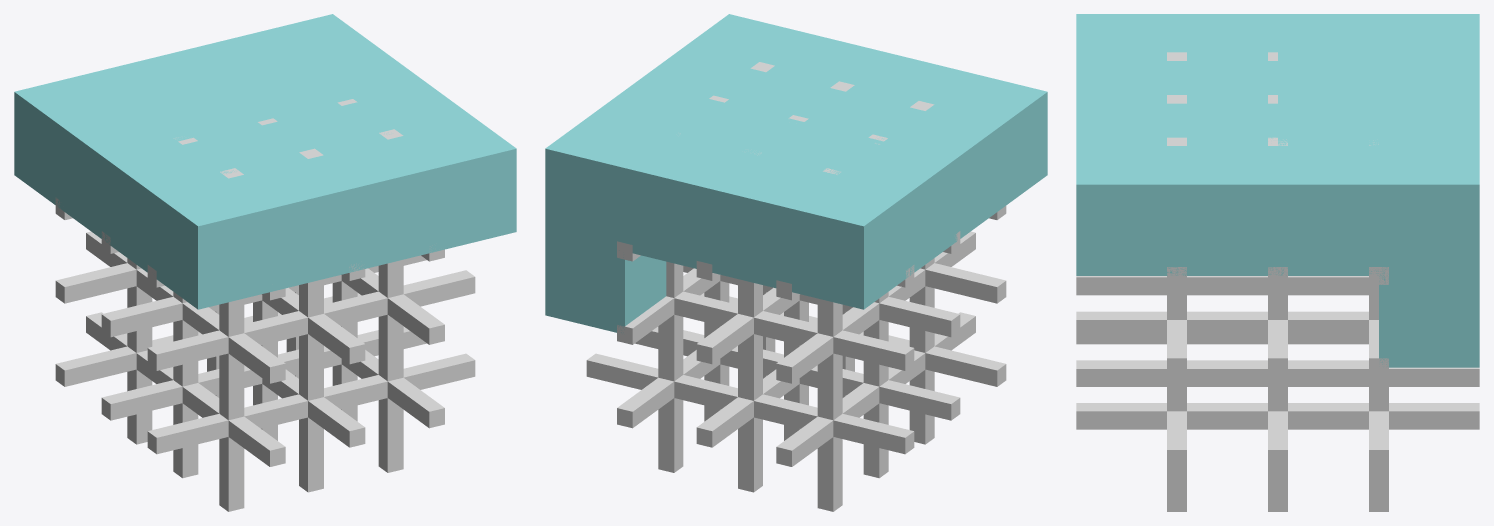
Rendered from newquad.fbx.
3 renders of one model, left to right at view 1: azimuth 30°, elevation 25°; view 2: azimuth 150°, elevation 25°; view 3: azimuth 270°, elevation 25°, orthographic. The views are drawn at different scales.
Visible parts, largest first — view 1: Cube, Cube.004, Cube.013, Cube.008, Cube.009, Cube.001, Cube.003, Cube.005, Cube.012, Cube.006, Cube.011, Cube.016 (+5 smaller); view 2: Cube, Cube.001, Cube.016, Cube.017, Cube.012, Cube.002, Cube.003, Cube.004, Cube.005, Cube.006, Cube.011, Cube.015 (+6 smaller); view 3: Cube, Cube.017, Cube.008, Cube.006, Cube.007, Cube.002, Cube.015, Cube.016, Cube.013, Cube.001, Cube.003, Cube.011 (+6 smaller).
Boxes of the visible parts, x1,y1,x2,y2 form: Cube: (55, 99, 475, 511); Cube.004: (152, 175, 277, 309); Cube.013: (237, 156, 357, 289); Cube.008: (396, 115, 516, 251); Cube.009: (316, 136, 436, 270); Cube.001: (14, 72, 139, 208); Cube.003: (60, 106, 185, 241); Cube.005: (106, 141, 230, 272); Cube.012: (174, 33, 298, 86); Cube.006: (299, 47, 424, 100); Cube.011: (220, 67, 344, 119); Cube.016: (94, 53, 218, 105); Cube: (586, 62, 1006, 511); Cube.001: (784, 173, 909, 309); Cube.016: (704, 154, 829, 288); Cube.017: (545, 115, 670, 249); Cube.012: (625, 134, 749, 268); Cube.002: (545, 232, 666, 332); Cube.003: (831, 139, 955, 275); Cube.004: (927, 72, 1047, 208); Cube.005: (878, 108, 1001, 241); Cube.006: (591, 81, 716, 134); Cube.011: (671, 101, 795, 153); Cube.015: (751, 120, 875, 172); Cube: (1076, 52, 1479, 511); Cube.017: (1379, 142, 1479, 275); Cube.008: (1076, 142, 1176, 275); Cube.006: (1278, 142, 1378, 275); Cube.007: (1177, 142, 1277, 275); Cube.002: (1379, 276, 1479, 367); Cube.015: (1278, 56, 1378, 99); Cube.016: (1379, 56, 1479, 99); Cube.013: (1076, 56, 1176, 99); Cube.001: (1379, 14, 1479, 56); Cube.003: (1278, 14, 1378, 56); Cube.011: (1278, 99, 1378, 141).
Size of the model in its own units: 200 by 200 by 200.
